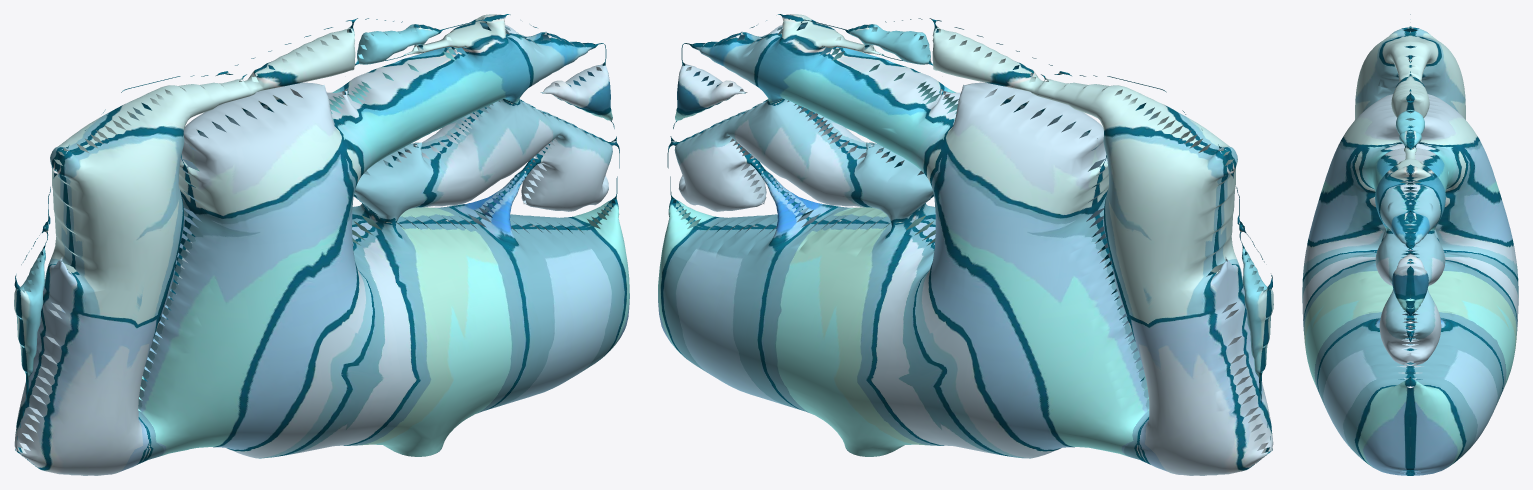
Rendered from ice_rim_cliff.glb.
3 renders of one model, left to right at view 1: azimuth 30°, elevation 25°; view 2: azimuth 150°, elevation 25°; view 3: azimuth 270°, elevation 25°, orthographic. The views are drawn at different scales.
Visible parts, largest first — view 1: ice_rim_cliff; view 2: ice_rim_cliff; view 3: ice_rim_cliff.
Boxes of the visible parts, x1,y1,x2,y2 form: ice_rim_cliff: (14, 14, 629, 475); ice_rim_cliff: (658, 14, 1273, 475); ice_rim_cliff: (1302, 14, 1518, 475).
Bounding box in the file's own units: 0.9914 × 0.6366 × 0.3945.
Materials: 1 (1 with a texture image).
